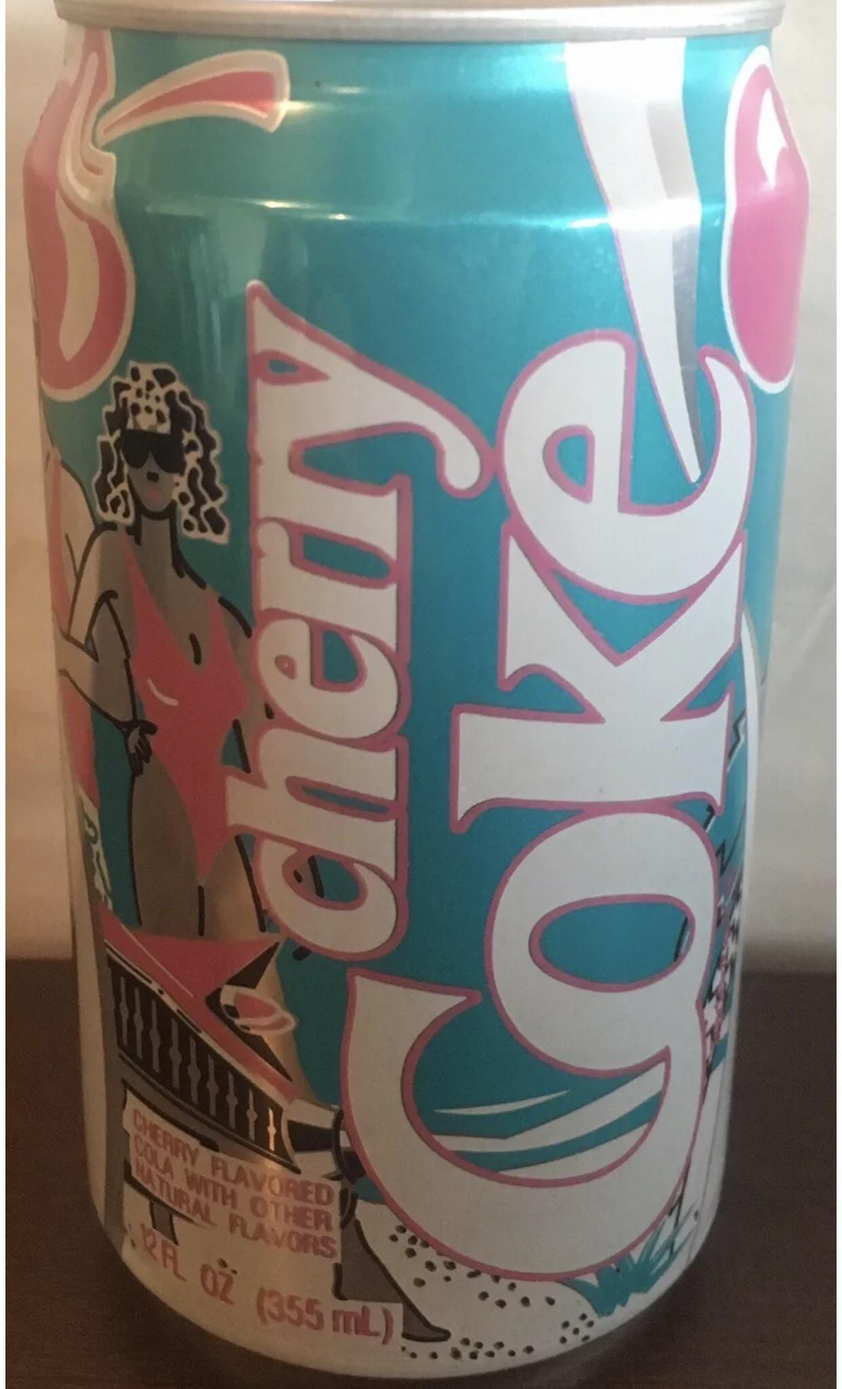tin can: (14, 1, 812, 1388)
